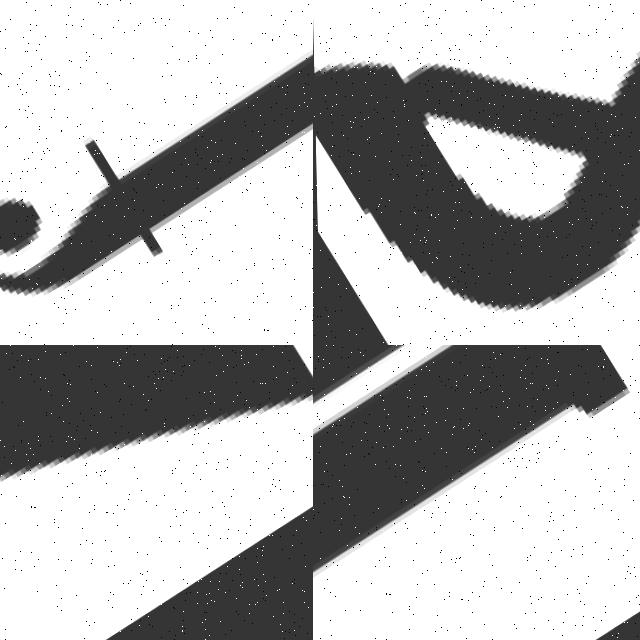8: (313, 0, 640, 345)
B: (313, 345, 628, 580)
F: (0, 0, 313, 345)
K: (0, 345, 313, 640)
